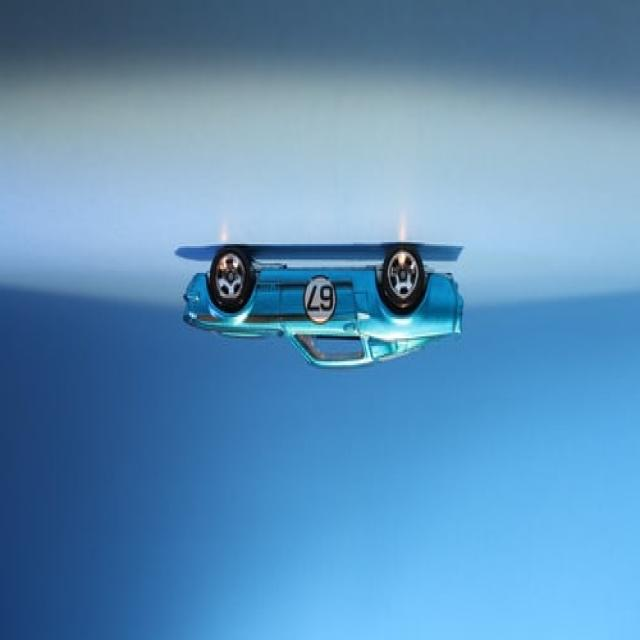Car: (183, 246, 465, 371)
